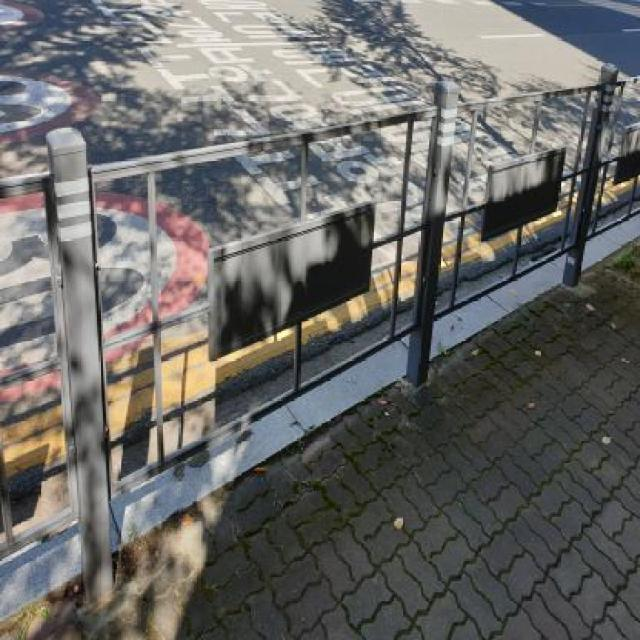fence: (34, 39, 457, 590), (398, 42, 640, 366)
